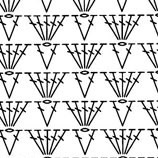enseble_chain: (113, 67, 150, 104), (2, 97, 38, 134), (39, 67, 75, 103), (38, 11, 74, 47), (78, 96, 113, 133), (114, 11, 149, 46), (4, 40, 38, 76), (79, 39, 113, 75), (42, 125, 76, 158), (117, 125, 151, 158), (97, 123, 128, 158), (21, 9, 50, 46), (21, 124, 52, 158), (60, 38, 89, 74), (60, 97, 89, 131), (99, 68, 127, 103), (0, 13, 29, 46), (99, 10, 126, 45), (0, 71, 29, 103), (0, 128, 30, 158), (39, 99, 67, 131), (114, 99, 142, 131), (75, 70, 103, 102), (134, 38, 158, 74), (134, 95, 158, 130), (115, 41, 142, 72), (77, 14, 103, 45), (41, 42, 66, 72), (79, 128, 103, 158), (36, 72, 54, 98)
fan: (99, 125, 127, 158), (66, 40, 89, 71), (33, 128, 53, 157), (109, 14, 127, 41), (1, 42, 18, 70), (116, 128, 133, 156), (112, 71, 129, 99), (2, 101, 19, 128), (78, 42, 93, 69)
